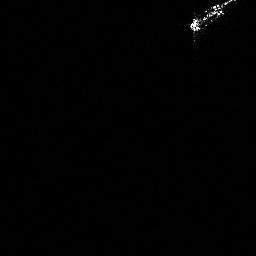ship: (186, 1, 240, 33)
